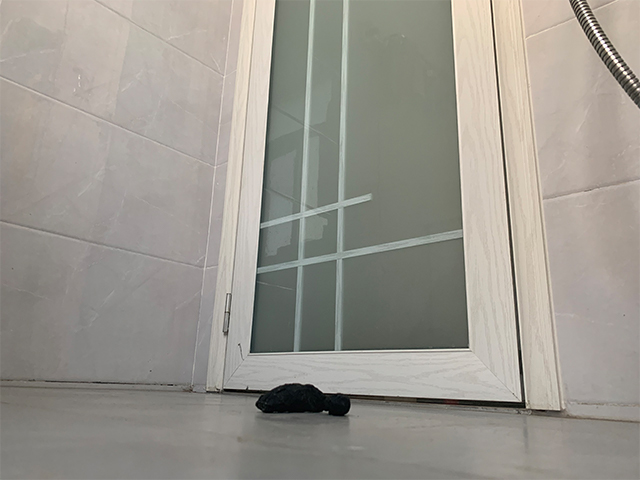feces: (254, 382, 352, 417)
